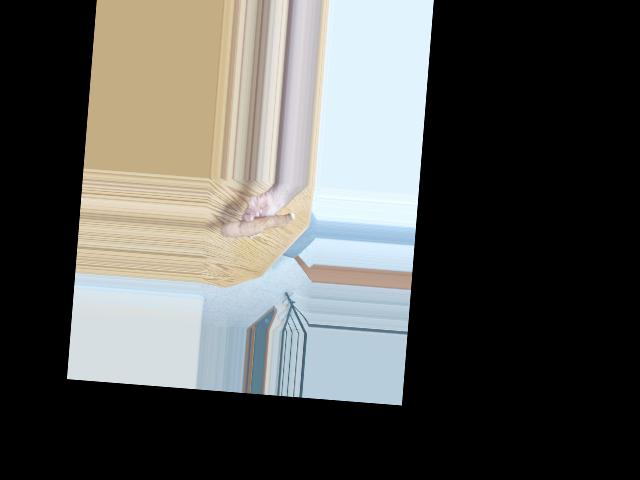sweet_potato: (223, 200, 295, 246)
